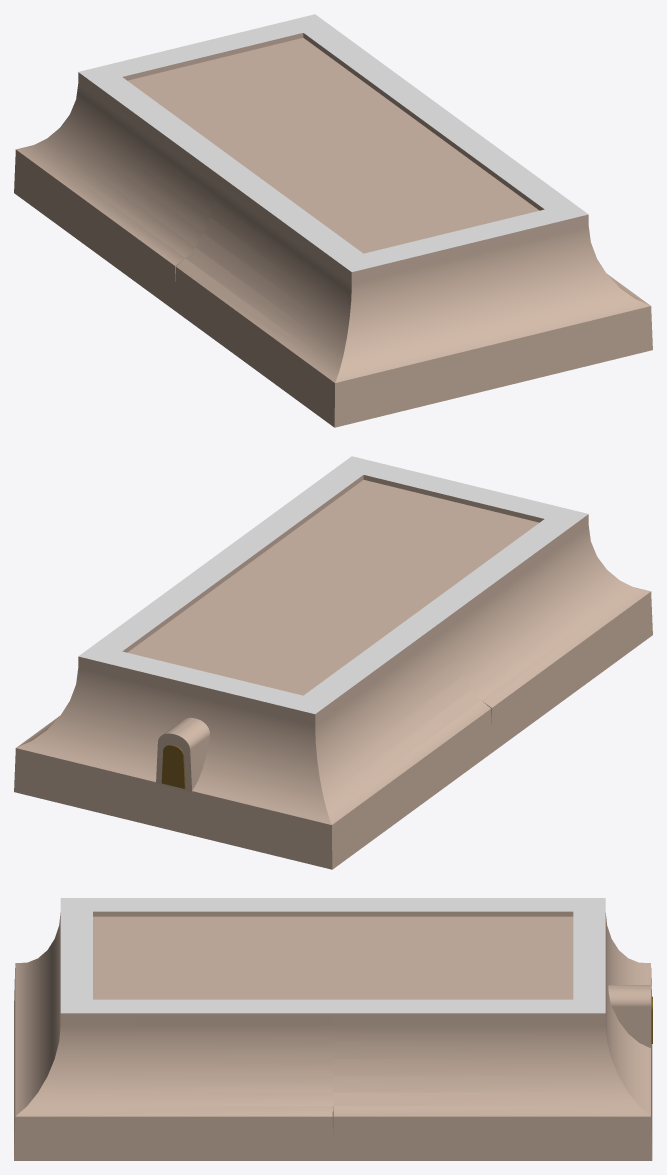
Rendered from Houses_2.fbx.
3 views of the same model, one above another, from view 1: azimuth 30°, elevation 25°; view 2: azimuth 150°, elevation 25°; view 3: azimuth 270°, elevation 25° (orthographic).
Visible parts, largest first — view 1: DCHouse_U.004, DCHouse_U.005; view 2: DCHouse_U.005, DCHouse_U.004, HouseDoor.003; view 3: DCHouse_U.004, DCHouse_U.005, HouseDoor.003.
Boxes of the visible parts, box(x1,y1,x2,y2) form: DCHouse_U.004: box(174, 114, 652, 427); DCHouse_U.005: box(14, 14, 451, 310); DCHouse_U.005: box(14, 556, 492, 869); DCHouse_U.004: box(215, 456, 652, 751); HouseDoor.003: box(156, 717, 209, 792); DCHouse_U.004: box(14, 898, 333, 1160); DCHouse_U.005: box(333, 898, 652, 1160); HouseDoor.003: box(608, 985, 652, 1049).
Bounding box in the file's own units: 202 × 352 × 77.66.
